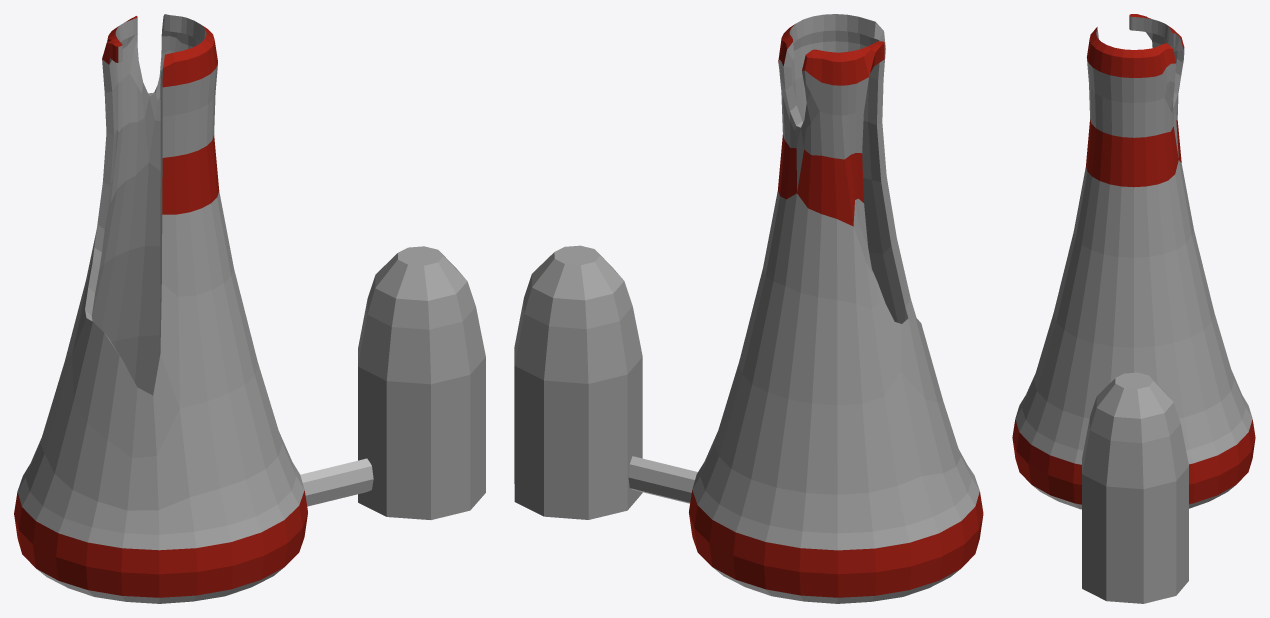
Rendered from atomine2.fbx.
3 renders of one model, left to right at view 1: azimuth 30°, elevation 25°; view 2: azimuth 150°, elevation 25°; view 3: azimuth 270°, elevation 25°, orthographic. The views are drawn at different scales.
Parts seen in each view (by area): view 1: cooling tower2; view 2: cooling tower2; view 3: cooling tower2.
Part boxes in pixels (left/top/right/bottom): cooling tower2: left=14, top=14, right=485, bottom=603; cooling tower2: left=514, top=14, right=983, bottom=603; cooling tower2: left=1012, top=14, right=1255, bottom=603.
Bounding box in the file's own units: 800 × 900 × 450.
